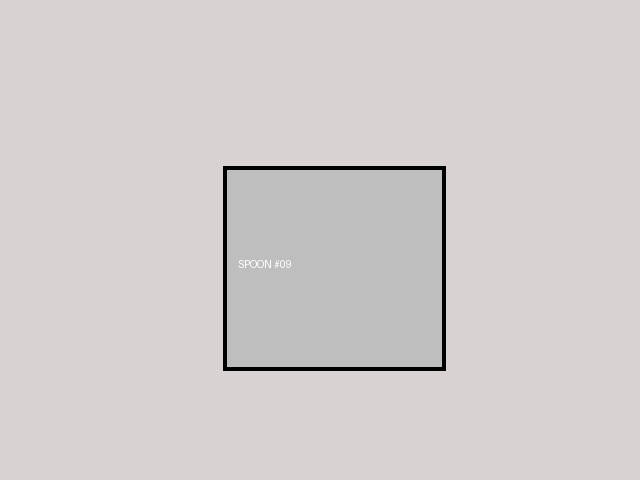spoon: (223, 166, 445, 370)
